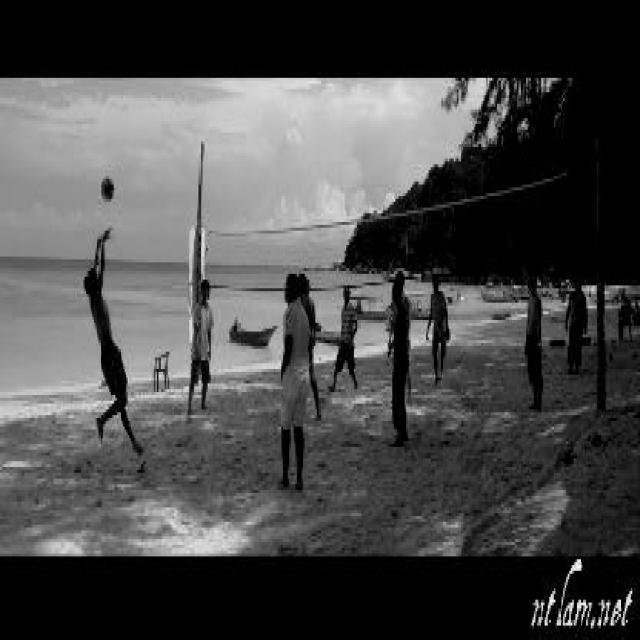volleyball: (100, 178, 115, 202)
